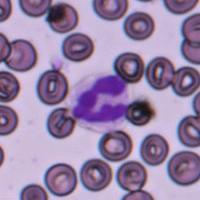N: (70, 72, 129, 132)
